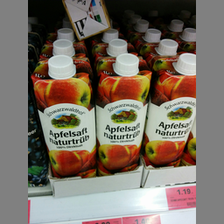juice: (32, 55, 98, 177), (95, 53, 152, 175), (145, 53, 196, 165)
